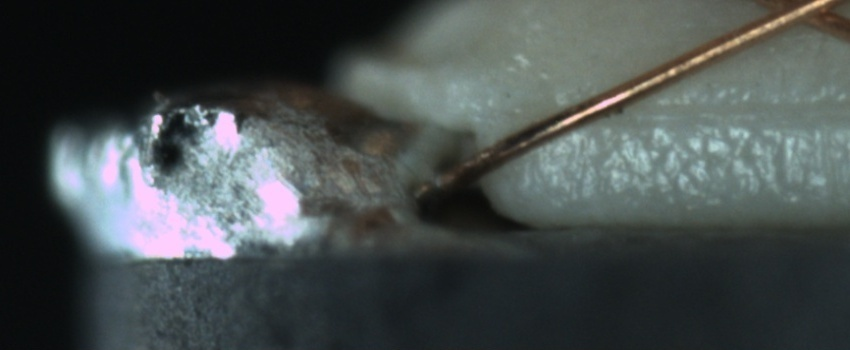CL: (741, 0, 850, 39)
DL: (613, 75, 842, 145)
